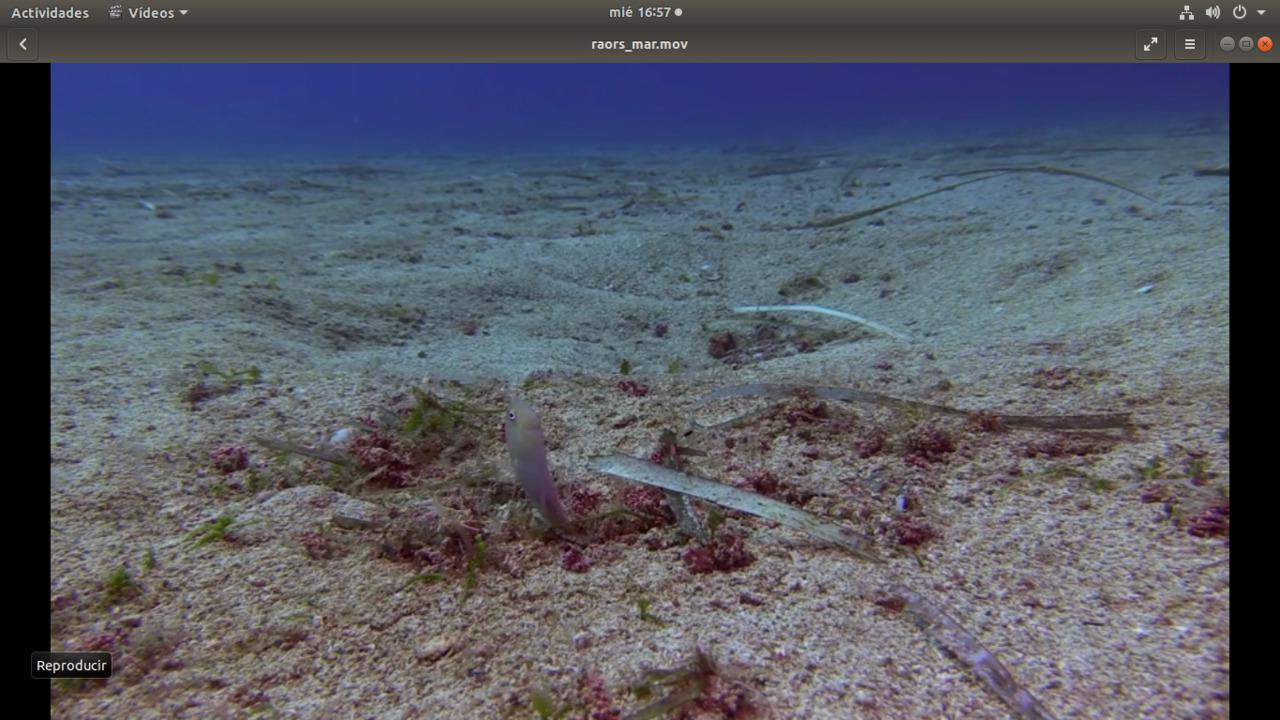raor: (487, 394, 590, 547)
